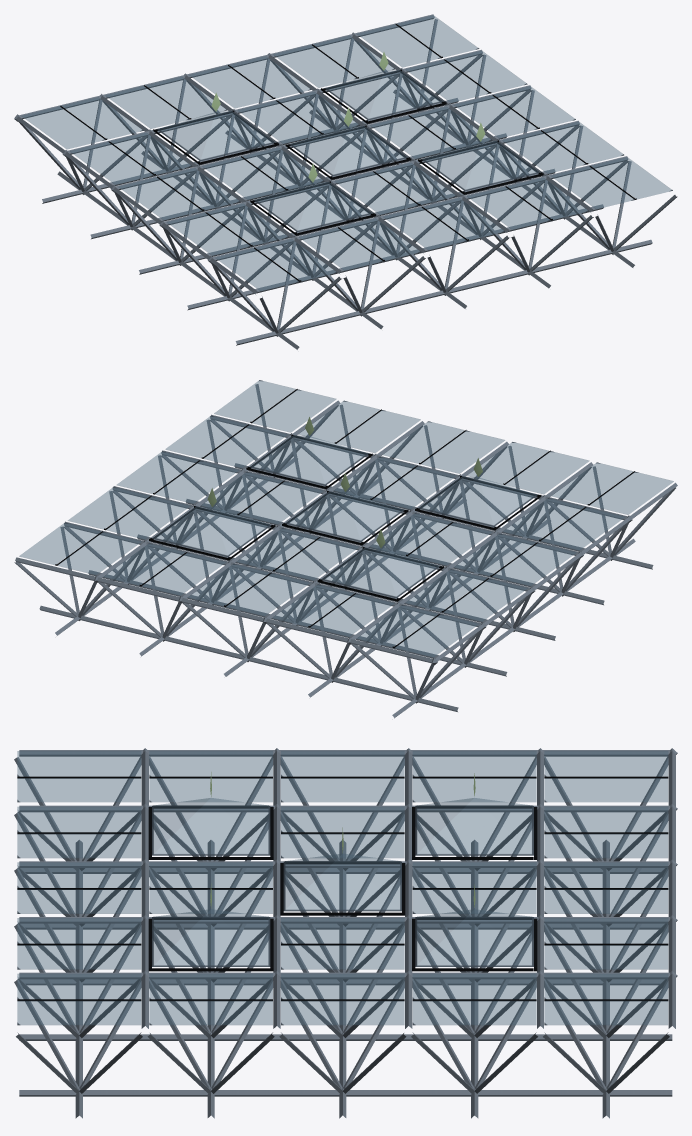
3 views of the same model, one above another, from view 1: azimuth 30°, elevation 25°; view 2: azimuth 150°, elevation 25°; view 3: azimuth 270°, elevation 25° (orthographic). The views are drawn at different scales.
Visible parts, largest first — view 1: Roof_Glass_Panes, Space_Frame, Lantern_Glass, Lantern_Curbs, Glazing_Bars, Lantern_Leaf_Finial; view 2: Roof_Glass_Panes, Space_Frame, Lantern_Glass, Lantern_Curbs, Glazing_Bars, Lantern_Leaf_Finial; view 3: Roof_Glass_Panes, Space_Frame, Lantern_Glass, Glazing_Bars, Lantern_Curbs.
Boxes of the visible parts, x1,y1,x2,y2 form: Roof_Glass_Panes: (22,15,672,290); Space_Frame: (14,14,677,349); Lantern_Glass: (157,70,539,231); Lantern_Curbs: (153,69,543,235); Glazing_Bars: (60,24,636,281); Lantern_Leaf_Finial: (211,52,485,182); Roof_Glass_Panes: (19,380,673,657); Space_Frame: (14,384,677,718); Lantern_Glass: (152,435,537,597); Lantern_Curbs: (149,434,541,601); Glazing_Bars: (55,389,634,648); Lantern_Leaf_Finial: (207,417,482,547); Roof_Glass_Panes: (17,751,667,1025); Space_Frame: (14,748,677,1118); Lantern_Glass: (152,798,533,966); Glazing_Bars: (17,776,668,1001); Lantern_Curbs: (148,806,537,971).
Size of the model in its own units: 20.15 by 5.38 by 20.16.
Materials: 4 (3 with a texture image).
